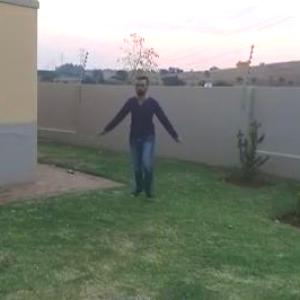land: (96, 74, 190, 208)
